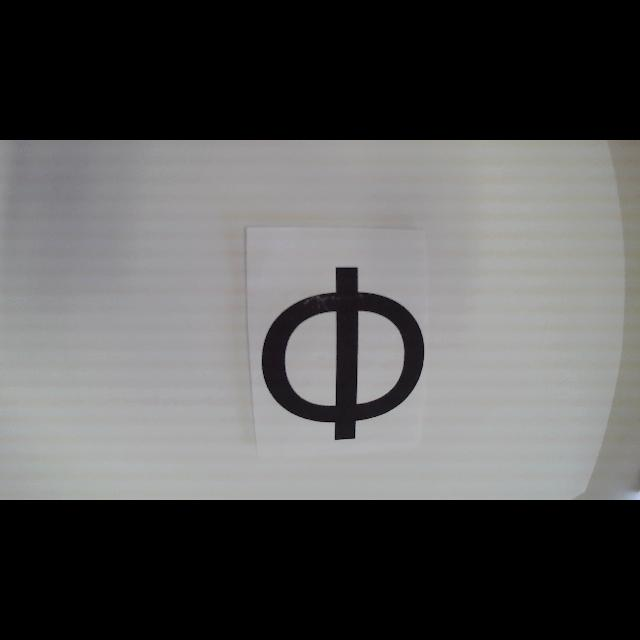PHI: (262, 266, 424, 440)
